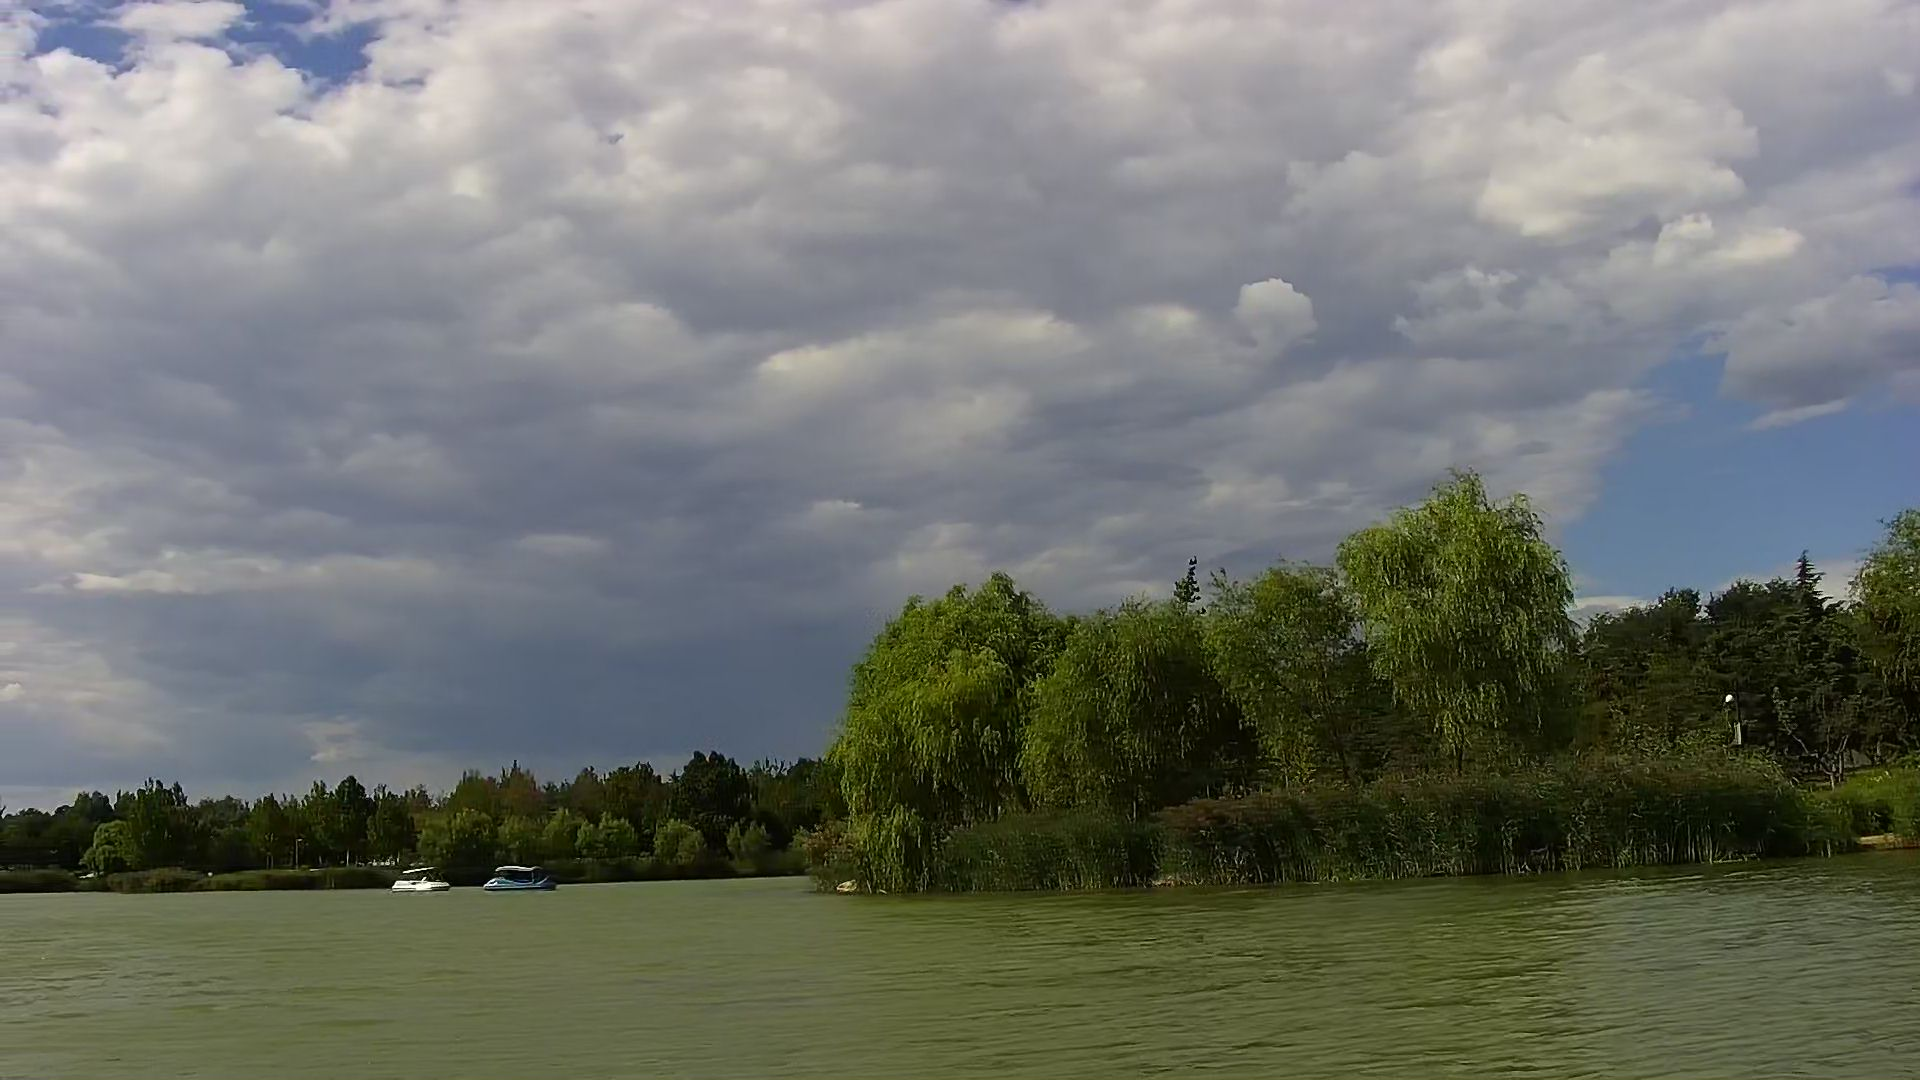boat: (481, 865, 558, 895), (386, 865, 454, 897)
rock: (835, 877, 862, 895)
